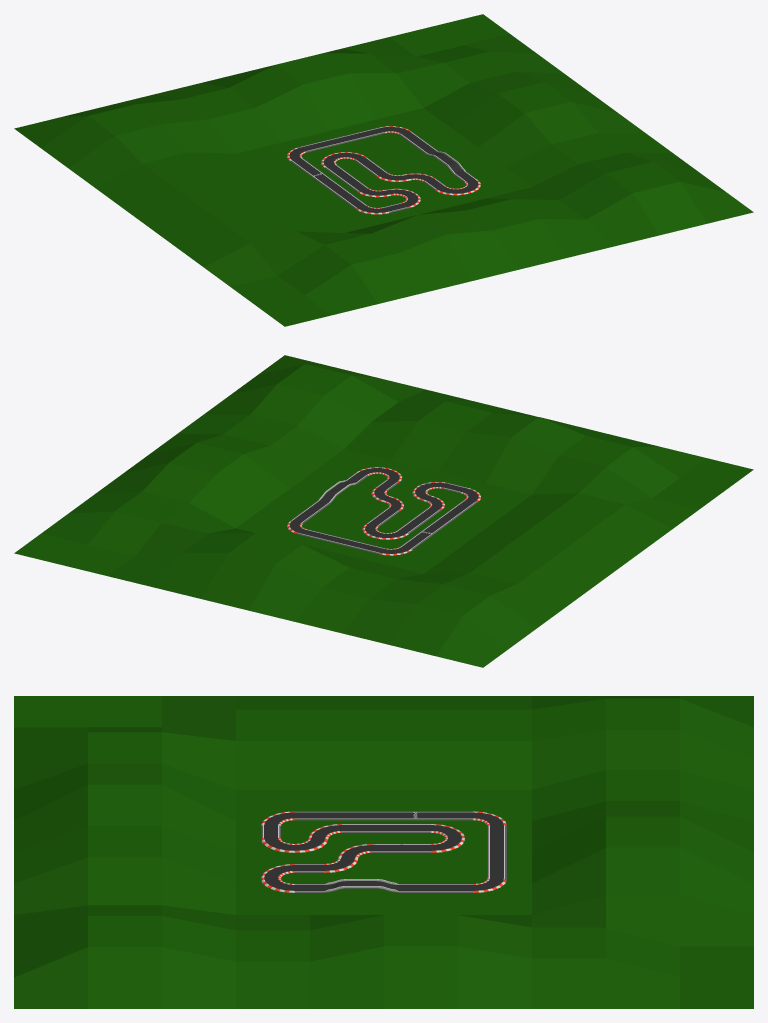
The model's file is Circuit.fbx.
The picture shows the model from 3 angles, top to bottom: view 1: azimuth 30°, elevation 25°; view 2: azimuth 150°, elevation 25°; view 3: azimuth 270°, elevation 25°; orthographic projection. The views are drawn at different scales.
Parts seen in each view (by area): view 1: Plane001, Circuit; view 2: Plane001, Circuit; view 3: Plane001, Circuit.
Part boxes in pixels (x1,y1,x2,y2): Plane001: [14, 14, 753, 326]; Circuit: [287, 126, 480, 214]; Plane001: [14, 355, 753, 667]; Circuit: [287, 467, 480, 555]; Plane001: [14, 696, 753, 1008]; Circuit: [261, 811, 506, 892].
Size of the model in its own units: 18795 by 1021 by 18795.
